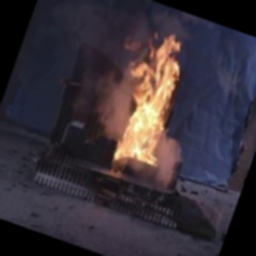fire: (78, 10, 205, 190)
